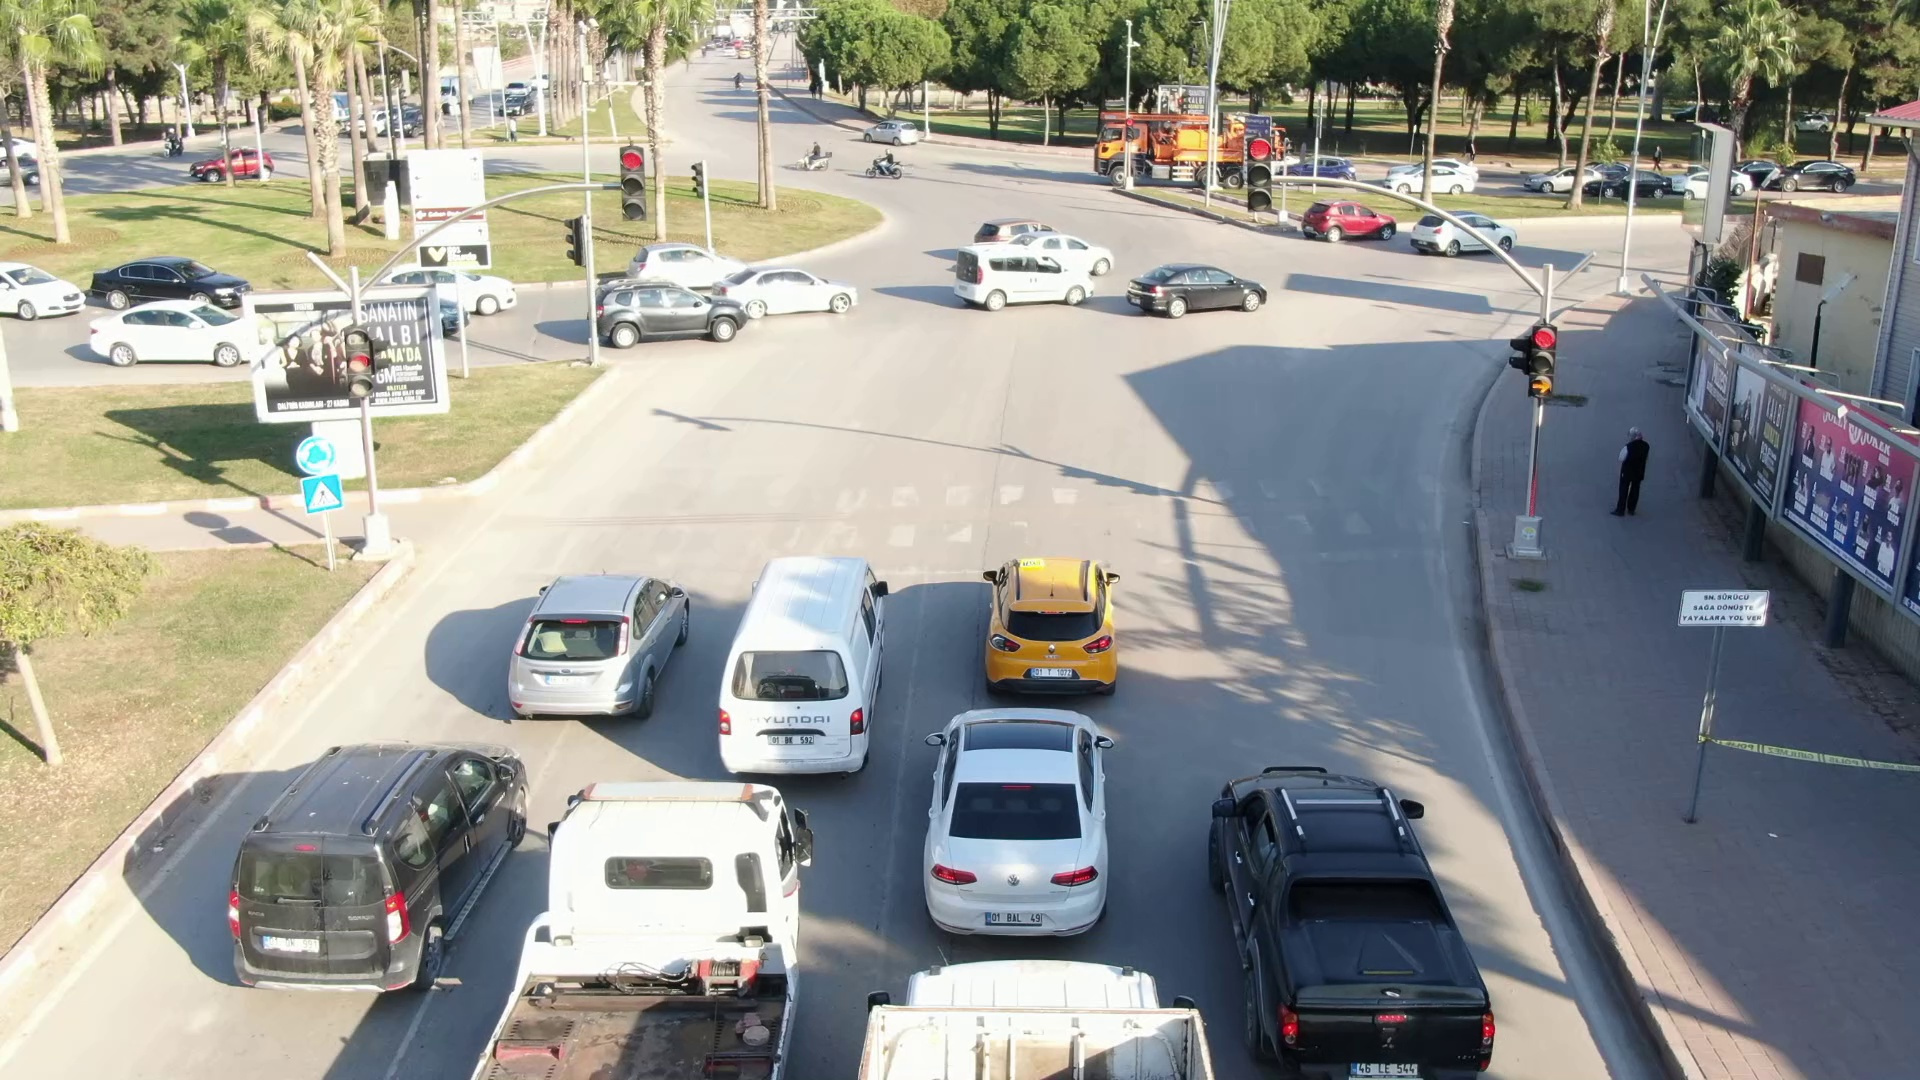car: (1197, 760, 1526, 1080), (227, 735, 538, 1004), (922, 703, 1125, 944), (712, 551, 897, 783), (506, 568, 704, 733), (976, 550, 1126, 708), (82, 294, 258, 369), (591, 272, 753, 353), (948, 243, 1095, 313), (1124, 258, 1270, 326), (84, 253, 252, 311), (711, 256, 861, 320), (1408, 206, 1522, 258), (1298, 199, 1398, 244), (186, 145, 276, 189), (1775, 156, 1859, 193), (1584, 169, 1673, 200), (858, 117, 924, 152)
